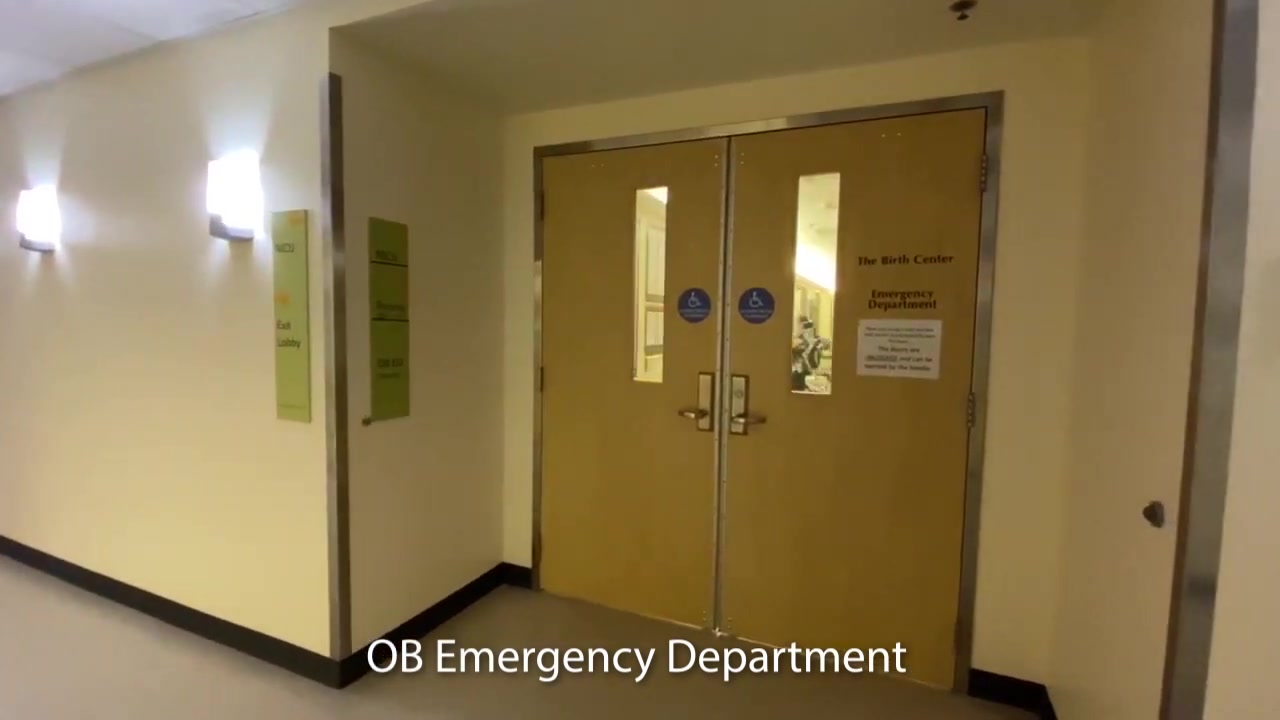door_handle: (725, 369, 768, 444), (675, 372, 718, 430)
